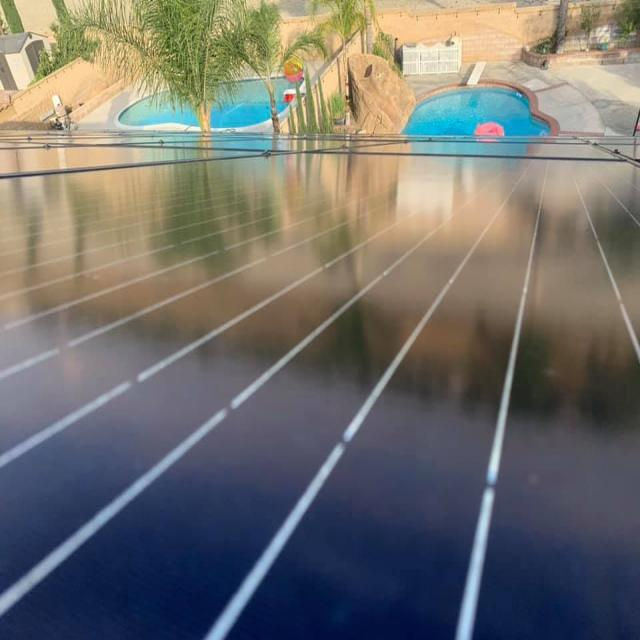clean-solar-panel: (1, 137, 640, 638)
